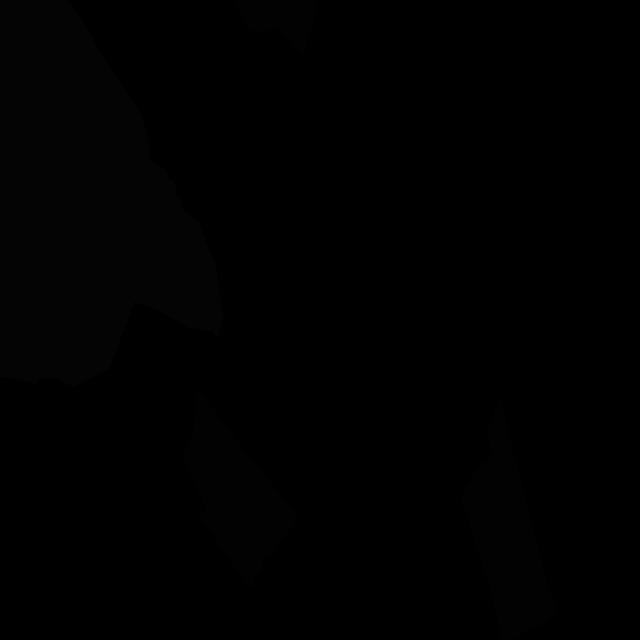cardboard: (460, 399, 558, 640), (182, 386, 297, 586), (236, 0, 316, 52)
